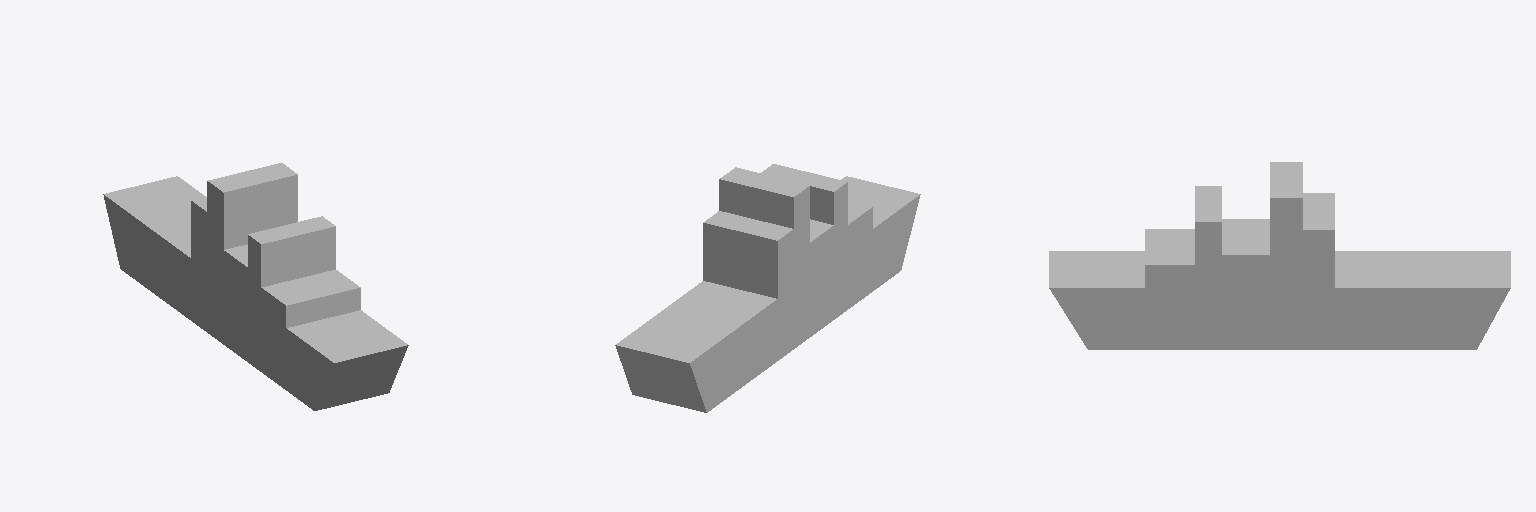
Rendered from Navy.obj.
The picture shows the model from 3 angles: view 1: azimuth 30°, elevation 25°; view 2: azimuth 150°, elevation 25°; view 3: azimuth 270°, elevation 25°; orthographic projection.
Parts seen in each view (by area): view 1: Navy; view 2: Navy; view 3: Navy.
Part boxes in pixels (bbox=[...]): Navy: bbox=[103, 163, 408, 410]; Navy: bbox=[615, 164, 920, 412]; Navy: bbox=[1049, 162, 1510, 349].
Bounding box in the file's own units: 4 × 7.8 × 21.48.